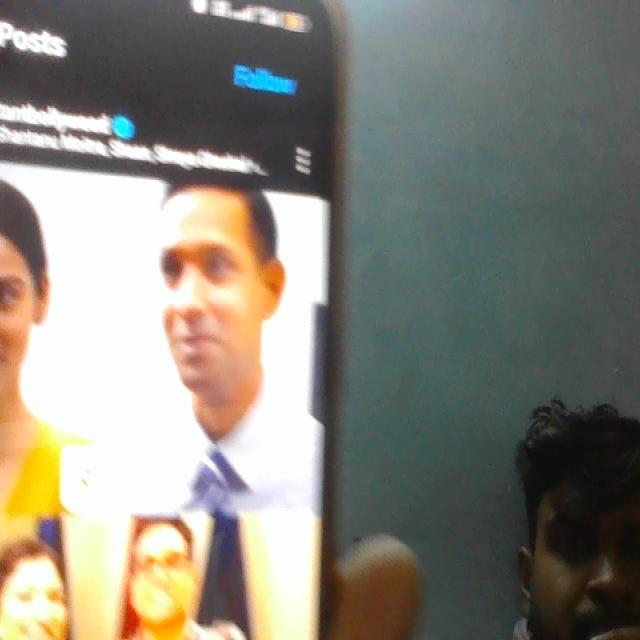fake: (144, 135, 297, 424)
